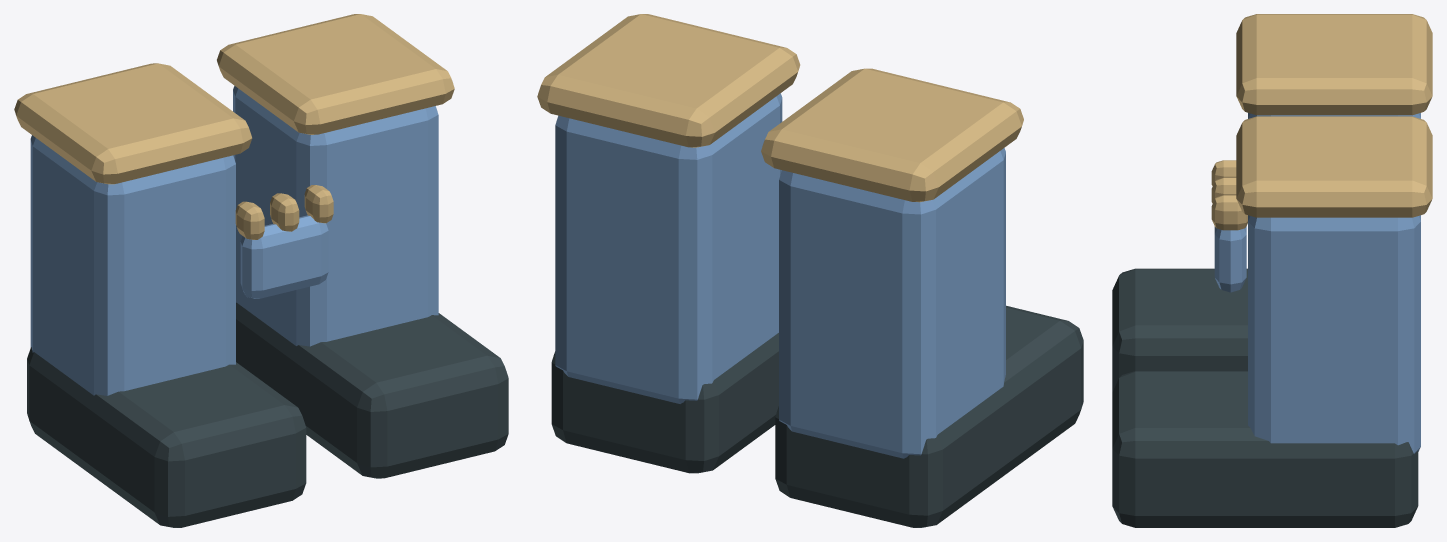
The model's file is arm_aegis_boots.glb.
The picture shows the model from 3 angles, left to right: view 1: azimuth 30°, elevation 25°; view 2: azimuth 150°, elevation 25°; view 3: azimuth 270°, elevation 25°; orthographic projection. The views are drawn at different scales.
Parts seen in each view (by area): view 1: arm_aegis_boots; view 2: arm_aegis_boots; view 3: arm_aegis_boots.
Boxes of the visible parts, <box> form: arm_aegis_boots: <box>14,14,508,527</box>; arm_aegis_boots: <box>537,14,1083,527</box>; arm_aegis_boots: <box>1112,14,1432,527</box>.
Bounding box in the file's own units: 0.75 × 0.67 × 0.555.
